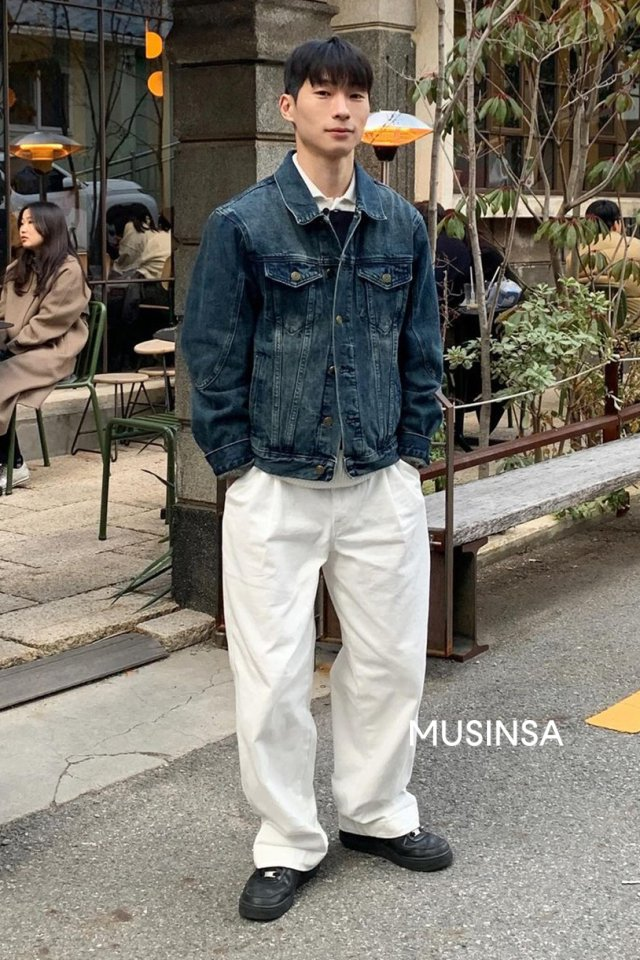Jacket: (181, 158, 456, 480)
Pants: (214, 454, 430, 865)
Shoes: (230, 825, 462, 928)
